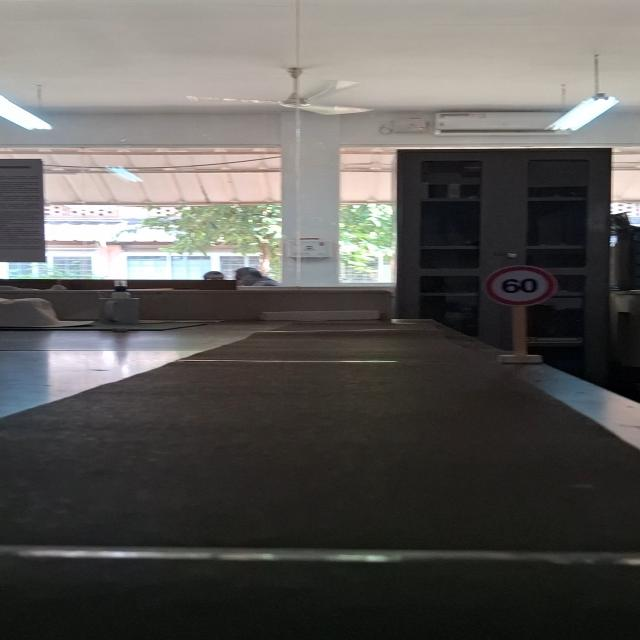Speed60: (483, 264, 557, 308)
